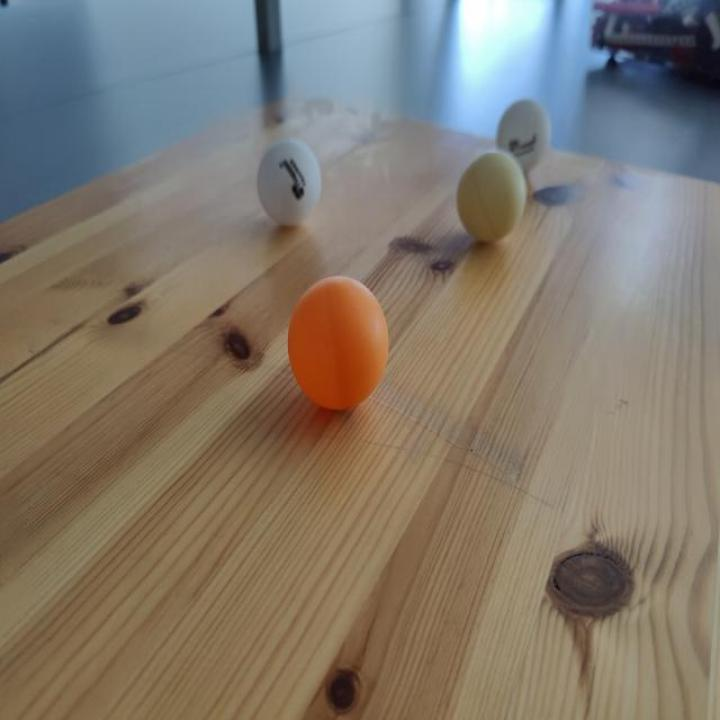orange: (286, 277, 391, 413)
white: (455, 151, 530, 246), (255, 138, 323, 228), (496, 98, 551, 170)
